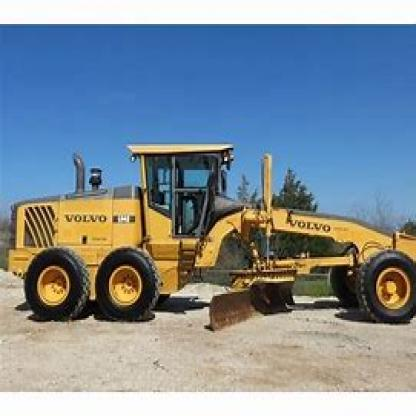bull_dozer/loader/grader: (5, 137, 414, 333)
